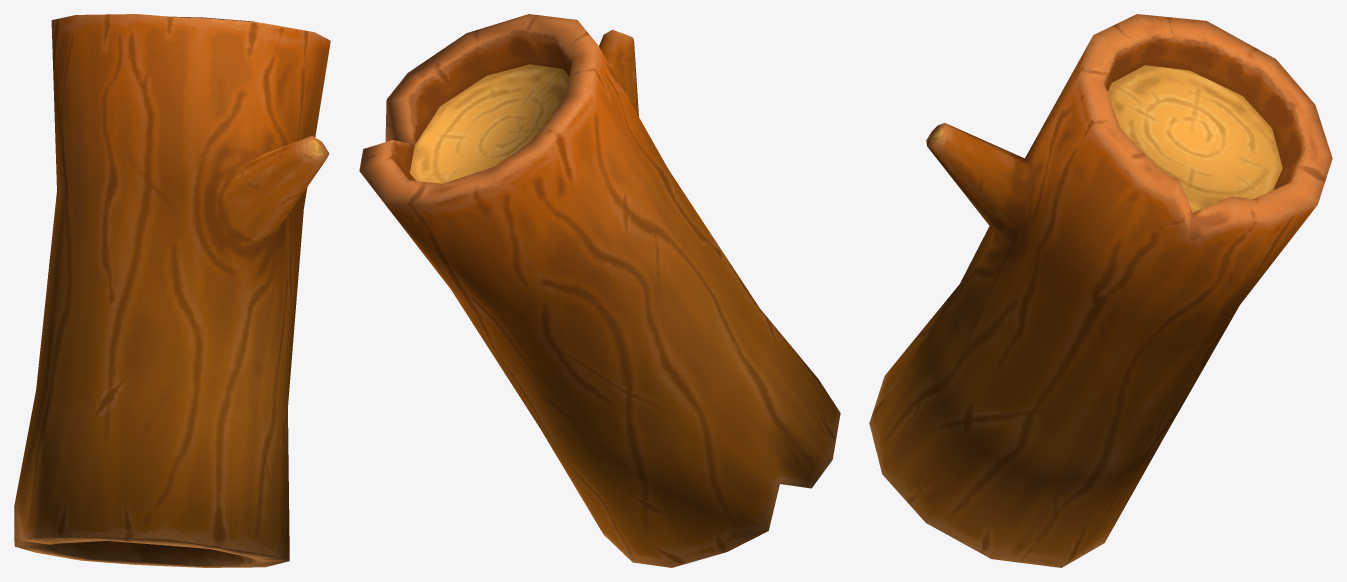
3 views of the same model, side by side, from view 1: azimuth 30°, elevation 25°; view 2: azimuth 150°, elevation 25°; view 3: azimuth 270°, elevation 25° (orthographic). The views are drawn at different scales.
Parts seen in each view (by area): view 1: log_low; view 2: log_low; view 3: log_low.
Part boxes in pixels (<box>): log_low: <box>14,14,330,567</box>; log_low: <box>359,14,840,567</box>; log_low: <box>869,14,1332,567</box>.
Bounding box in the file's own units: 2.99 × 4.16 × 3.24.
1 material, 1 textured.
